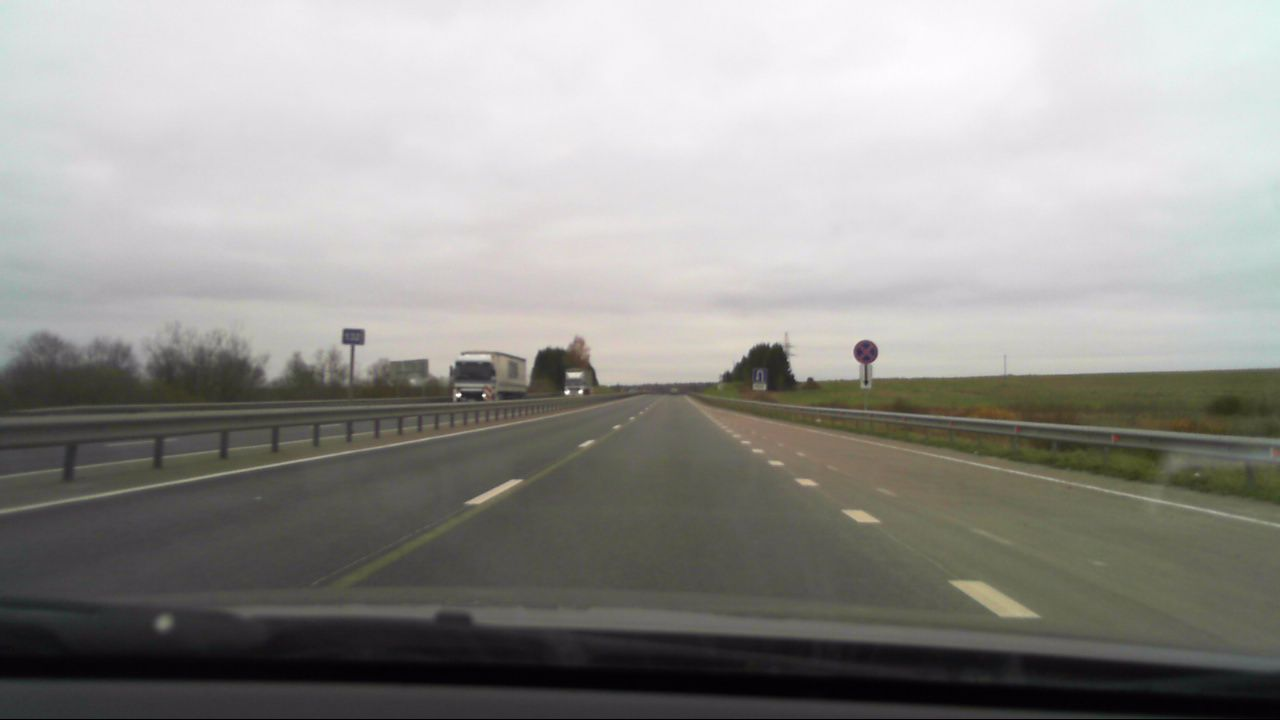No Parking: (851, 339, 877, 364)
U-turn: (753, 369, 767, 384)
